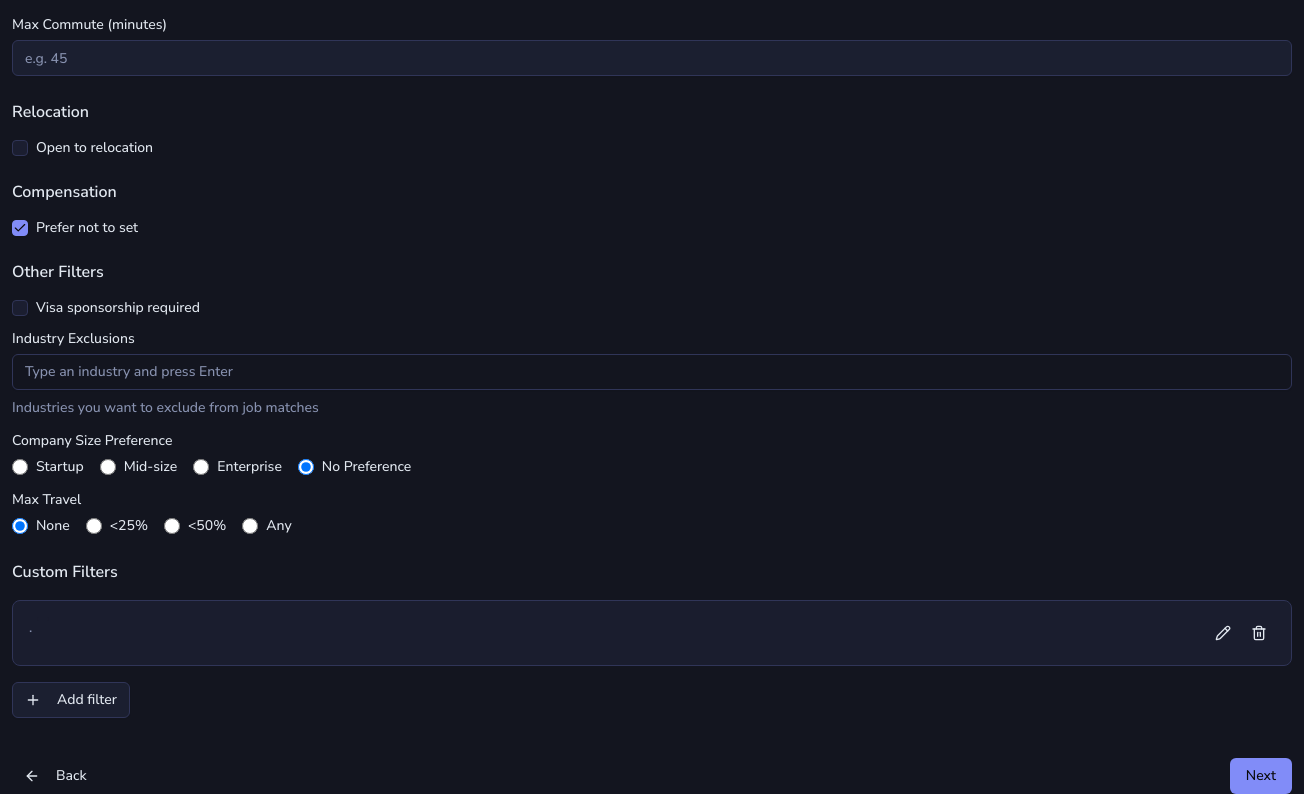
Scenario: NonNegotiablesStep › form submission › shows friendly error for validation failure
(page scrolled)
Click the button with test id "submit-button": (1261, 776) 1230,758 -> 1292,793
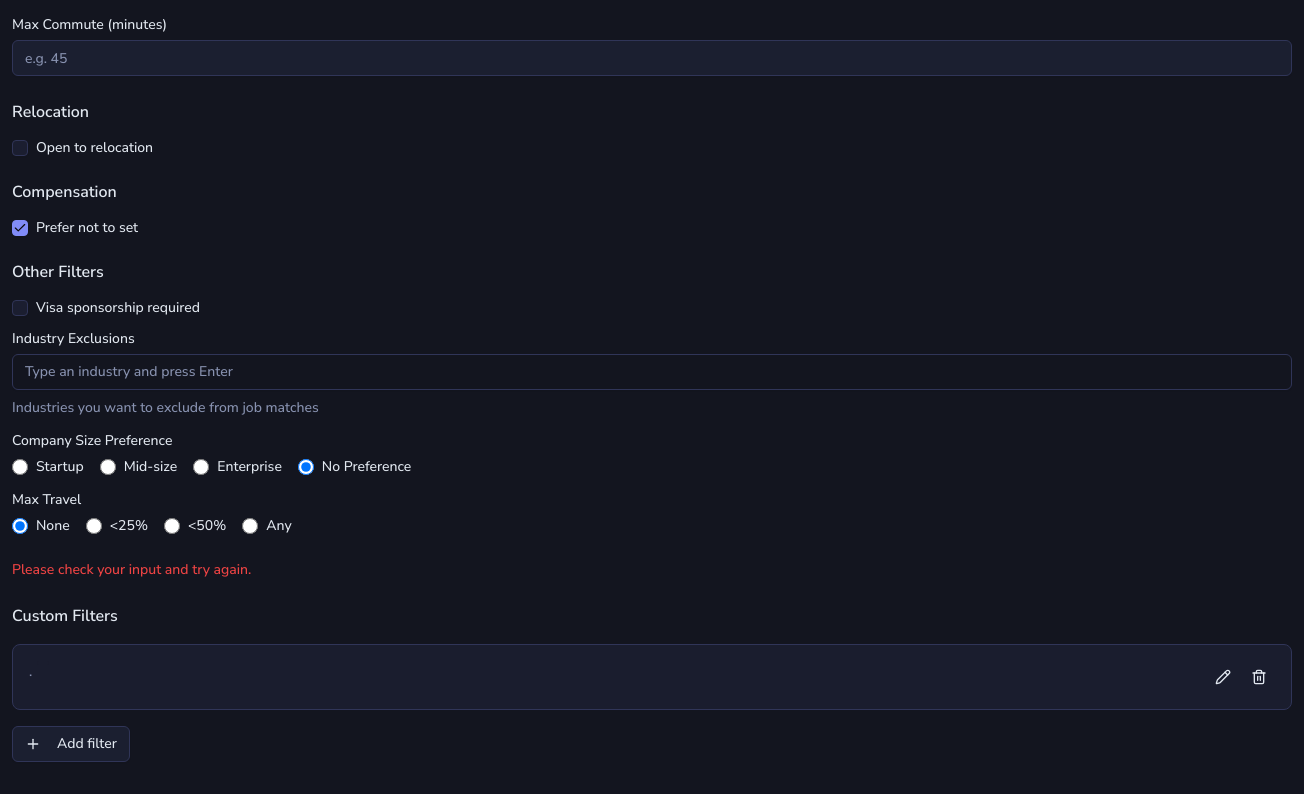
Now the message with test id "submit-error" reads "Please check your input and try again.", box 12,560 -> 251,579
